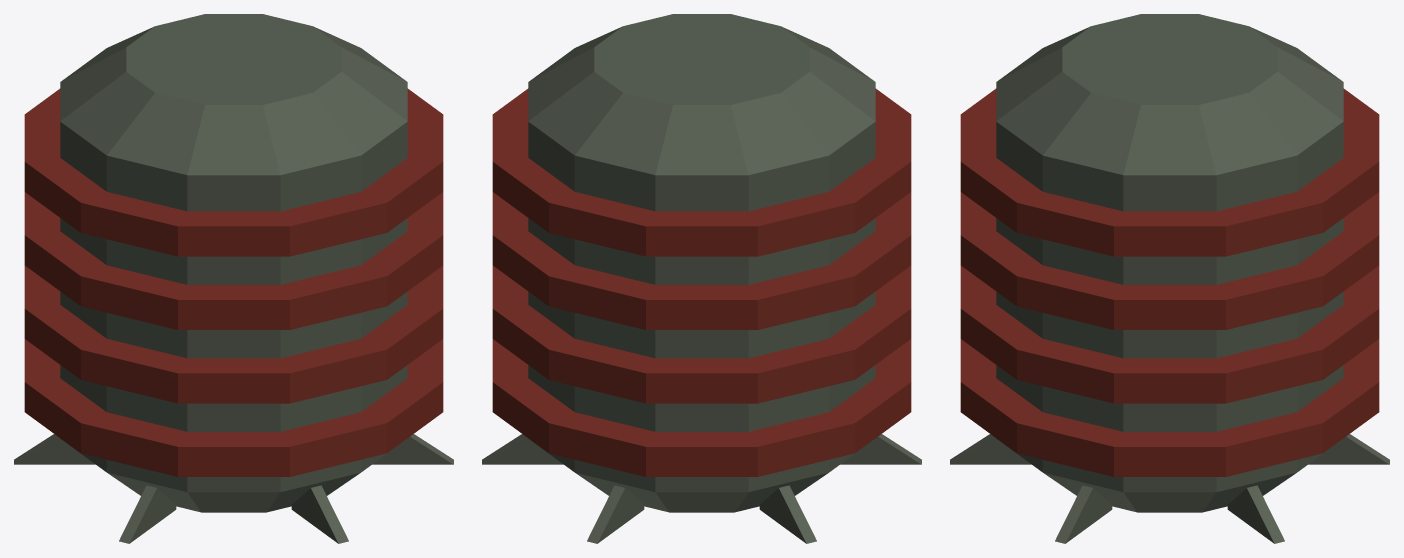
Rendered from s600_vessel.obj.
The picture shows the model from 3 angles, left to right: view 1: azimuth 30°, elevation 25°; view 2: azimuth 150°, elevation 25°; view 3: azimuth 270°, elevation 25°; orthographic projection.
Parts seen in each view (by area): view 1: s600_vessel; view 2: s600_vessel; view 3: s600_vessel.
Boxes of the visible parts, <box> form: s600_vessel: <box>14,14,453,543</box>; s600_vessel: <box>482,14,921,543</box>; s600_vessel: <box>950,14,1389,543</box>.
Size of the model in its own units: 1.72 by 1.82 by 1.81.
